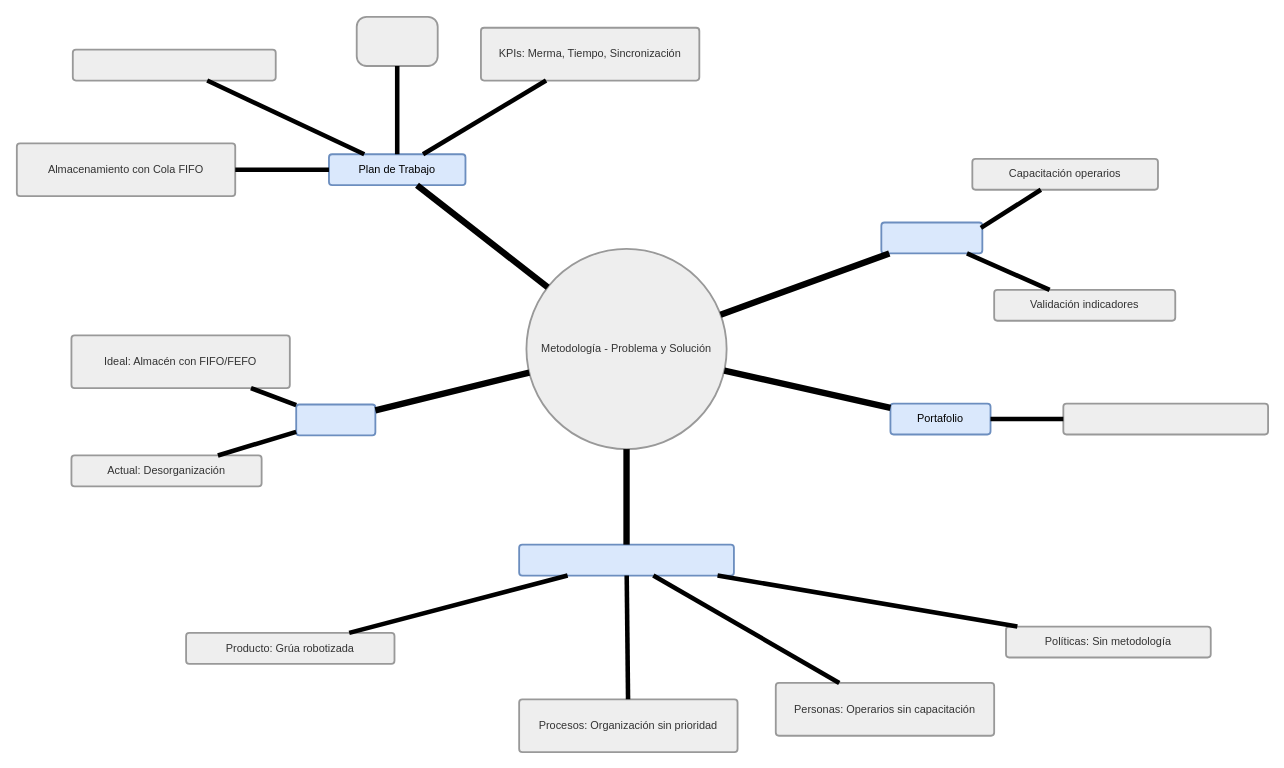
Some shapes in this 1284 by 768 pixel diagram are drawn without their labels. The shapes that lost their labels are listed below. From the top down, each one's centre as x and y in pixels, then its label:
At point 396,40: "QR/RFID".
At point 173,64: "Automatización Despacho".
At point 931,237: "Desarrollo".
At point 335,419: "Estado".
At point 1165,418: "Reutilización metodología".
At point 626,559: "Identificación del Problema".
